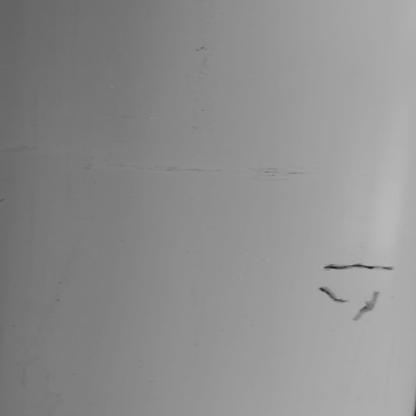fengxi: (352, 293, 378, 321), (321, 262, 394, 271), (319, 285, 346, 304)
